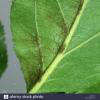Apple Scab Leaf: (15, 1, 99, 93)
